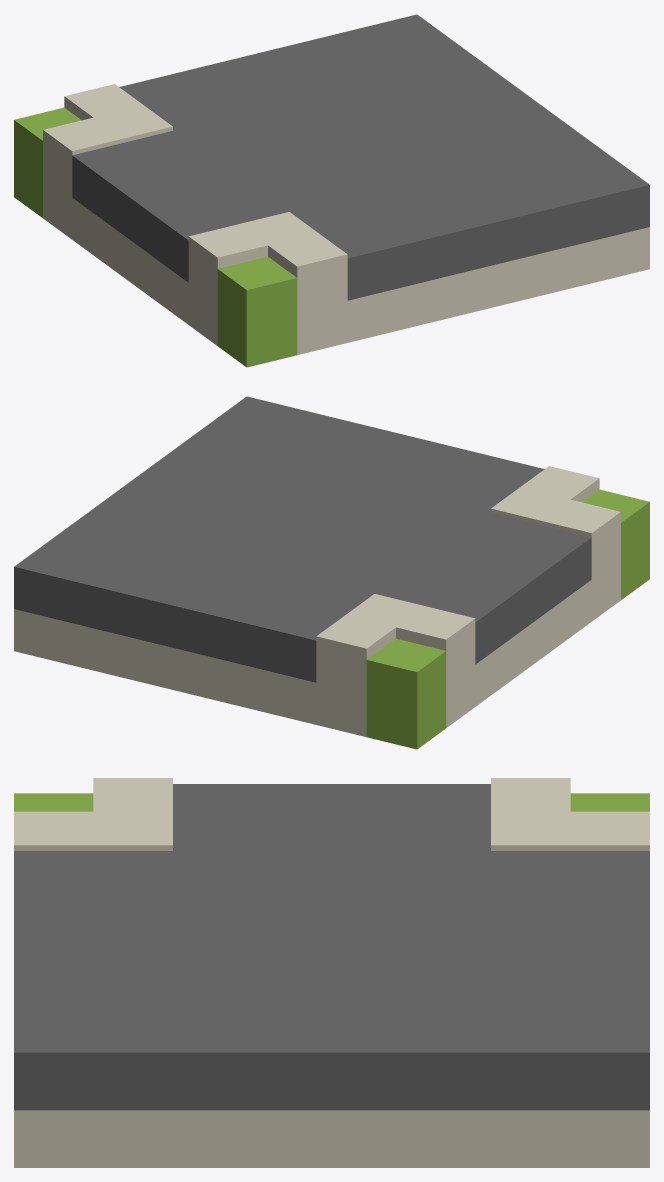
Rendered from tile031.fbx.
3 renders of one model, top to bottom at view 1: azimuth 30°, elevation 25°; view 2: azimuth 150°, elevation 25°; view 3: azimuth 270°, elevation 25°, orthographic. The views are drawn at different scales.
Parts seen in each view (by area): view 1: tile031; view 2: tile031; view 3: tile031.
Part boxes in pixels (<box>): tile031: <box>14,14,649,367</box>; tile031: <box>14,396,649,749</box>; tile031: <box>14,778,649,1167</box>.
Size of the model in its own units: 10 by 2.1 by 10.
